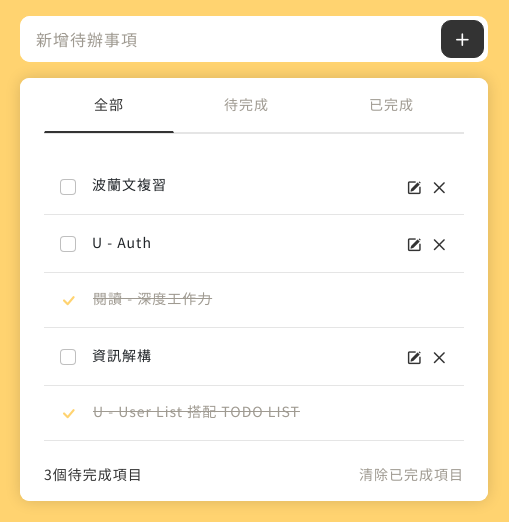
Test: Todo List › Interaction › 編輯項目時，將list表 隱藏
Click the 1st button with test id "edit-icon". click: [414, 188]
box: [406,177,423,198]
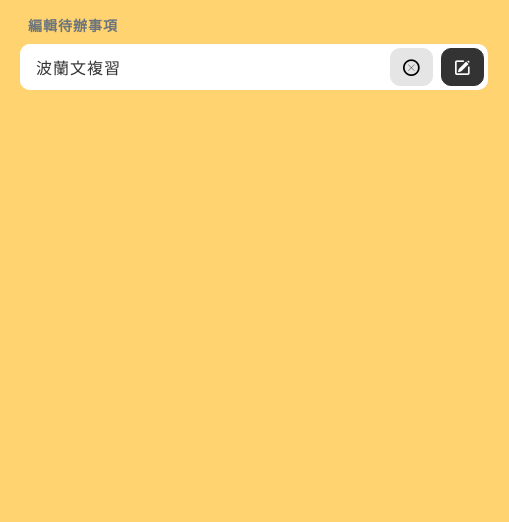
Check: the element with test id "todos-list" is gone
